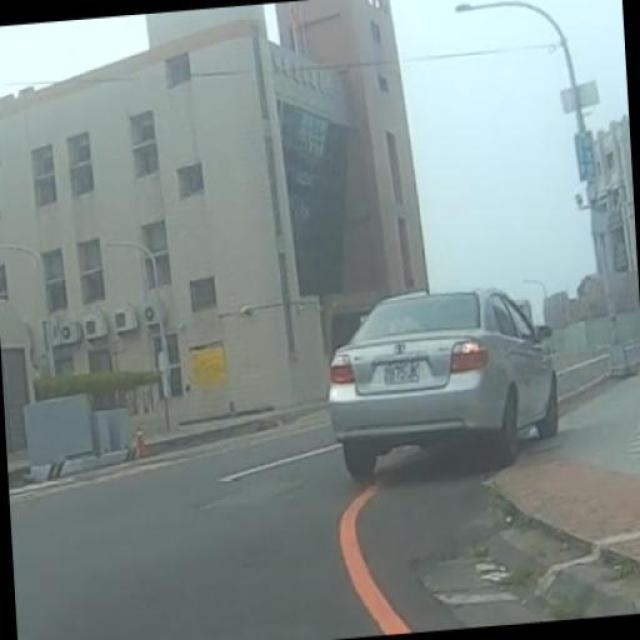illegalparking: (307, 286, 585, 507)
